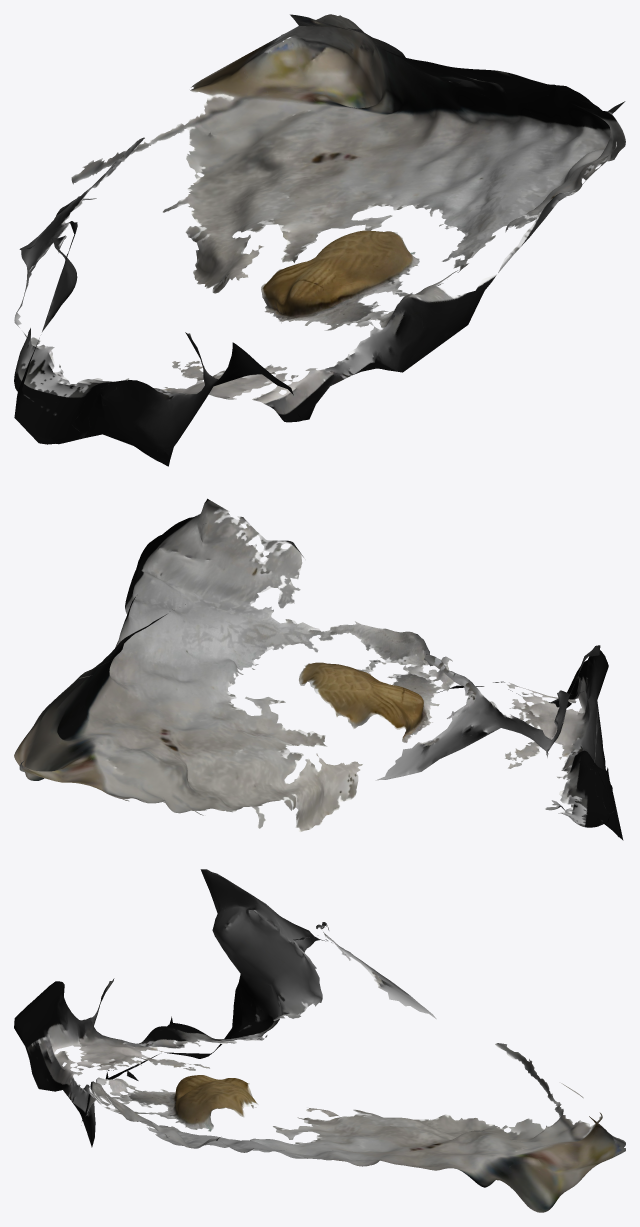
3 views of the same model, one above another, from view 1: azimuth 30°, elevation 25°; view 2: azimuth 150°, elevation 25°; view 3: azimuth 270°, elevation 25° (orthographic). The views are drawn at different scales.
Bounding box in the file's own units: 1.16 × 0.458 × 1.15.
1 material, 1 textured.
